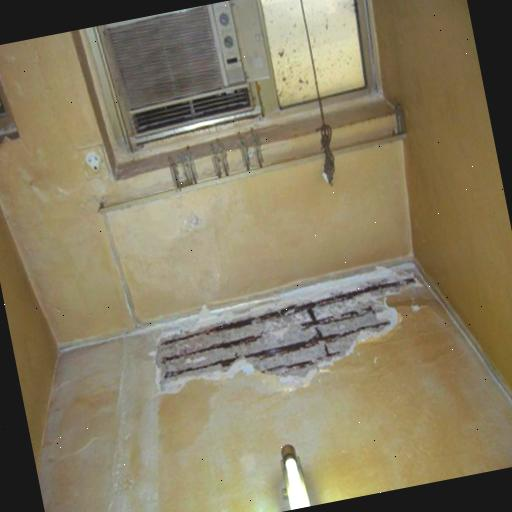spalling: (157, 260, 425, 389)
